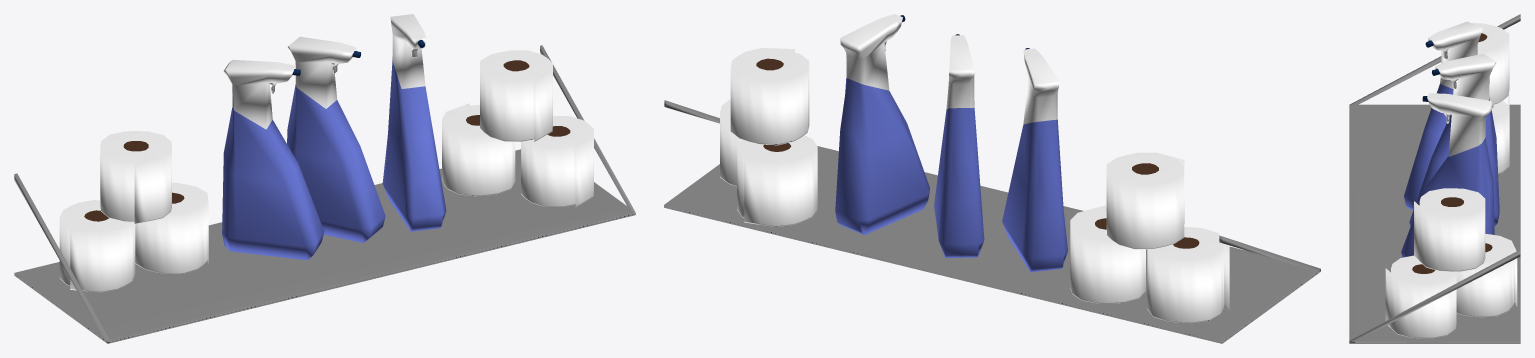
Rendered from SuppliesShelf.fbx.
3 views of the same model, side by side, from view 1: azimuth 30°, elevation 25°; view 2: azimuth 150°, elevation 25°; view 3: azimuth 270°, elevation 25° (orthographic). The views are drawn at different scales.
Parts seen in each view (by area): view 1: Cube.003; view 2: Cube.003; view 3: Cube.003.
Part boxes in pixels (bbox=[...]): Cube.003: bbox=[14, 14, 635, 343]; Cube.003: bbox=[664, 14, 1320, 343]; Cube.003: bbox=[1349, 14, 1520, 343].
Bounding box in the file's own units: 362 × 123 × 111.
